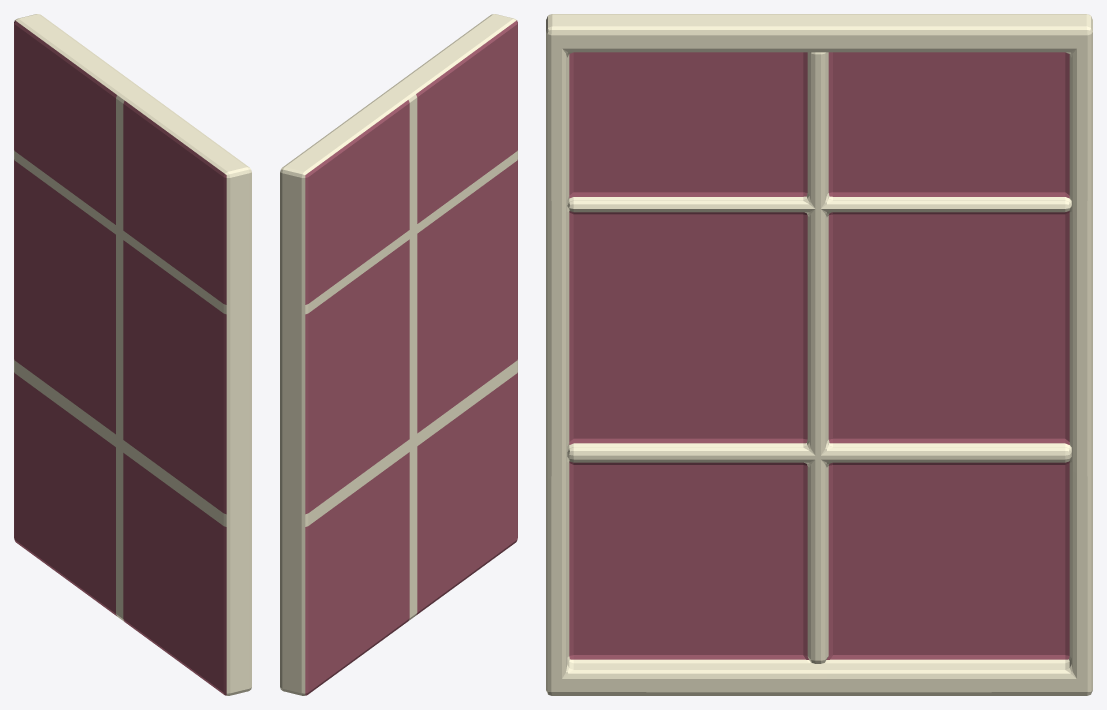
File: classroomwindow 1.fbx
The picture shows the model from 3 angles, left to right: view 1: azimuth 30°, elevation 25°; view 2: azimuth 150°, elevation 25°; view 3: azimuth 270°, elevation 25°; orthographic projection. The views are drawn at different scales.
Visible parts, largest first — view 1: window; view 2: window; view 3: window.
Boxes of the visible parts, x1=… form: window: x1=14, y1=14, x2=251, y2=695; window: x1=280, y1=14, x2=517, y2=695; window: x1=546, y1=14, x2=1092, y2=695.
Size of the model in its own units: 64.77 by 1169 by 865.
